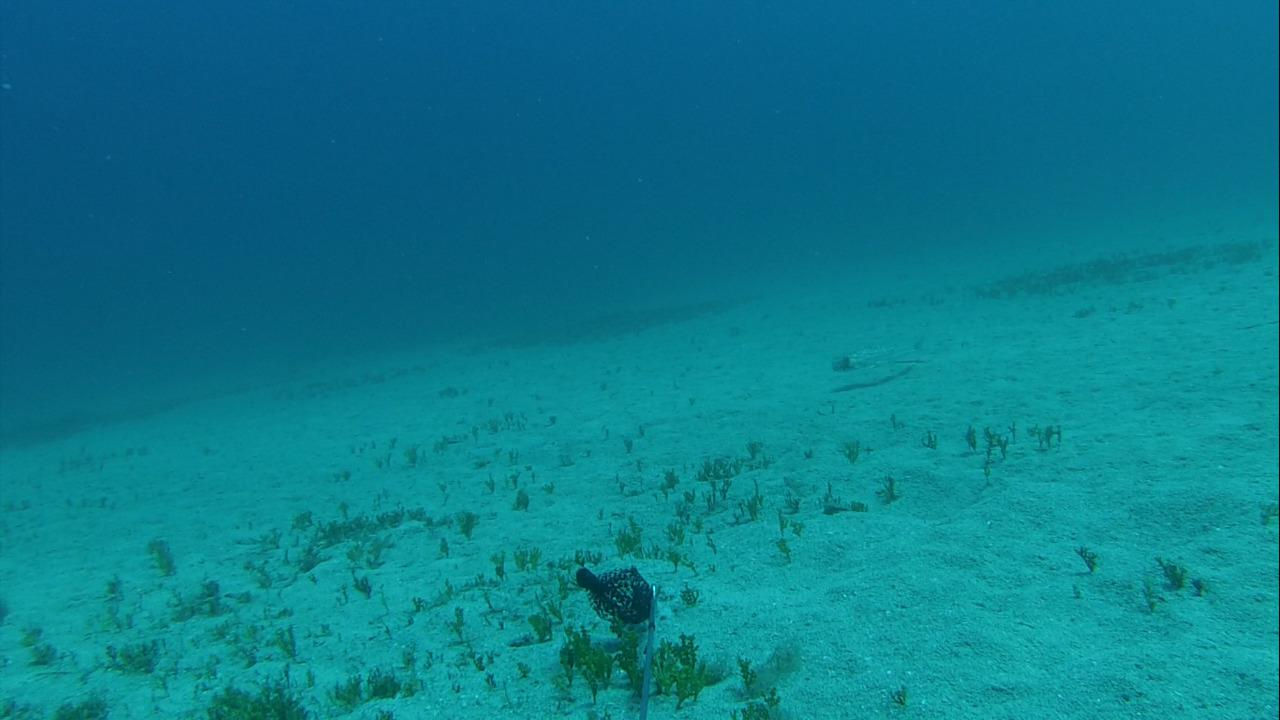dactylopterus: (823, 328, 947, 375)
